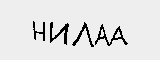А: (92, 22, 110, 49), (109, 25, 129, 46)
И: (47, 20, 70, 46)
Л: (69, 21, 93, 51)
Н: (27, 18, 46, 44)
